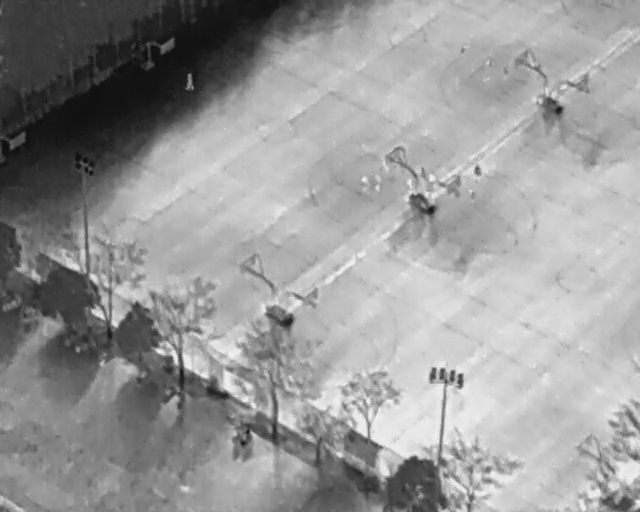Person: (424, 176, 437, 197), (472, 164, 484, 182), (184, 71, 194, 92), (360, 176, 370, 195), (373, 173, 382, 194), (405, 178, 415, 194), (468, 188, 477, 203), (486, 57, 495, 70), (501, 67, 509, 81)
